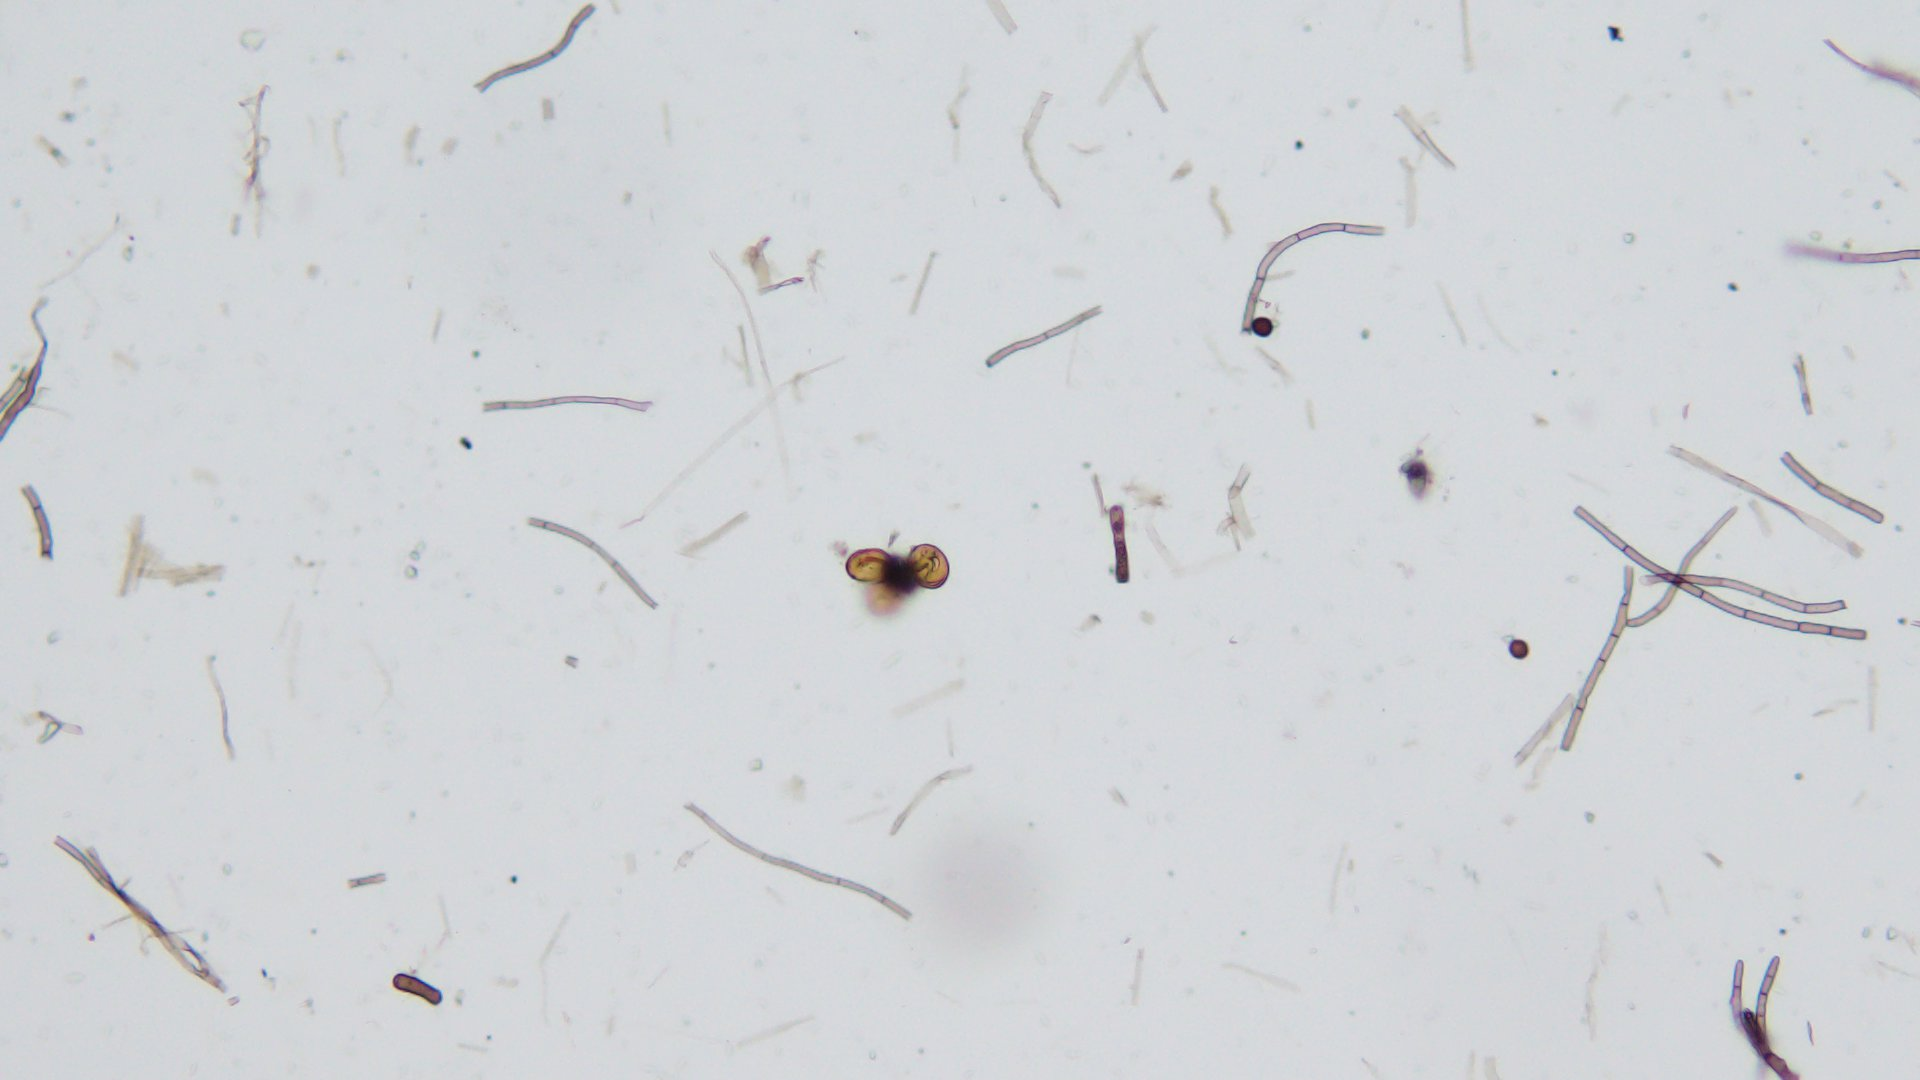shs_spore: (1249, 316, 1273, 339), (1509, 640, 1528, 658)
xb_spore: (847, 546, 895, 589), (906, 545, 949, 592)
